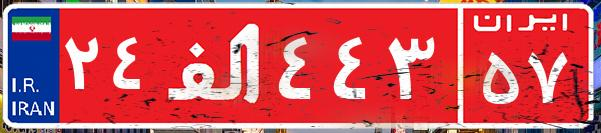2: (57, 26, 110, 107)
3: (385, 28, 445, 110)
4: (273, 28, 330, 110), (330, 28, 385, 110), (110, 28, 158, 105)
5: (475, 38, 525, 113)
7: (525, 38, 570, 115)
الف: (158, 15, 273, 115)
